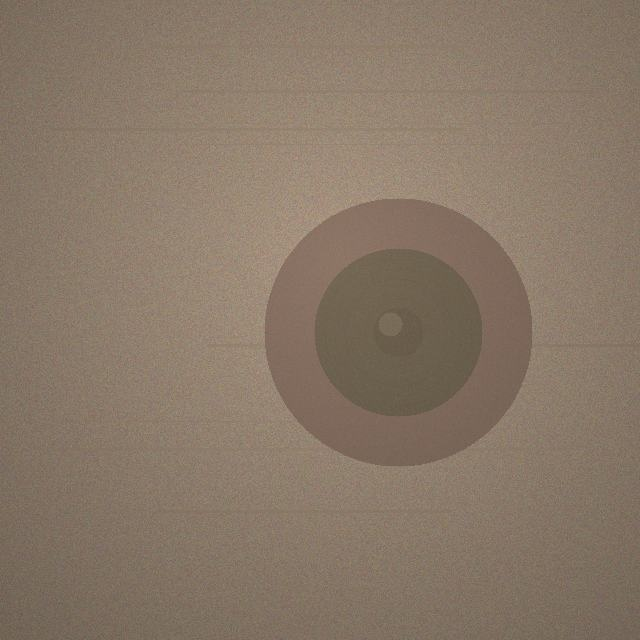good: (264, 198, 532, 466)
